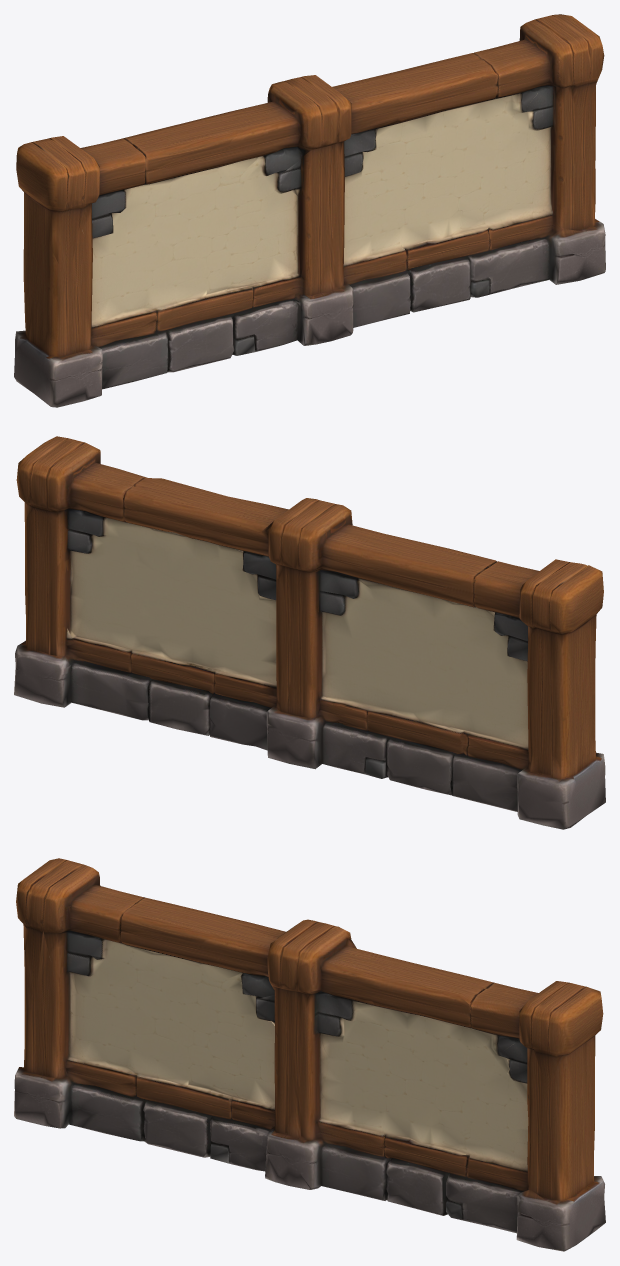
Rendered from tripo_convert_67109bca-c8a1-4a04-8ff5-62d011054b61.fbx.
3 views of the same model, one above another, from view 1: azimuth 30°, elevation 25°; view 2: azimuth 150°, elevation 25°; view 3: azimuth 330°, elevation 25° (orthographic).
Parts seen in each view (by area): view 1: tripo_node_67109bca; view 2: tripo_node_67109bca; view 3: tripo_node_67109bca.
Boxes of the visible parts, x1,y1,x2,y2 form: tripo_node_67109bca: (14,14,605,407); tripo_node_67109bca: (14,436,605,829); tripo_node_67109bca: (14,858,605,1251).
Size of the model in its own units: 0.9816 by 0.399 by 0.1288.
Materials: 1 (1 with a texture image).
